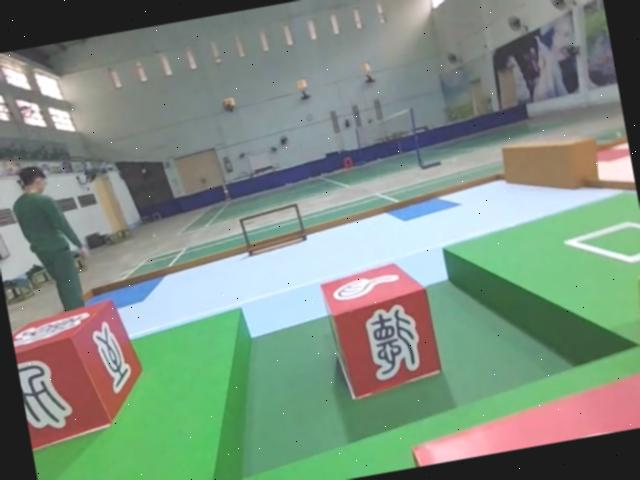R2 Fake: (8, 292, 152, 449), (316, 256, 447, 401)
